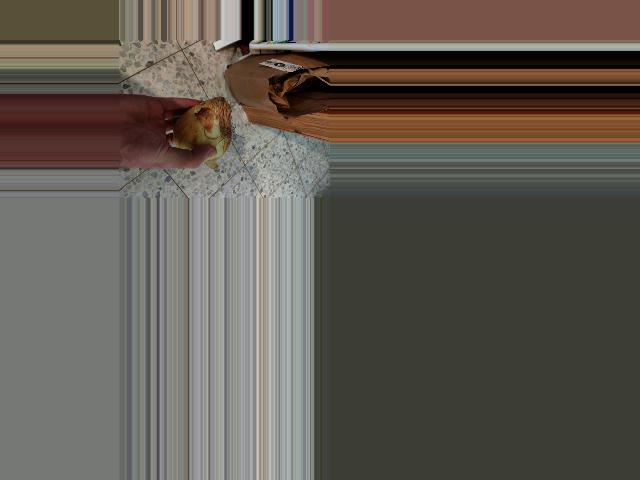onion: (168, 96, 238, 165)
